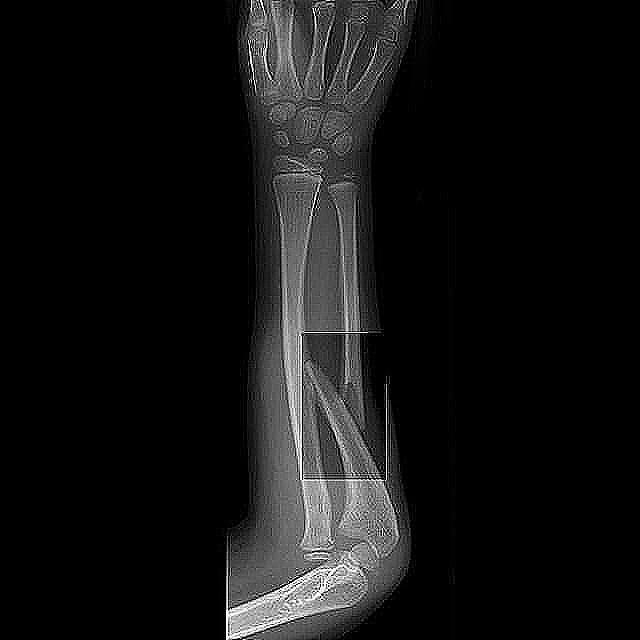bone: (304, 333, 372, 449)
